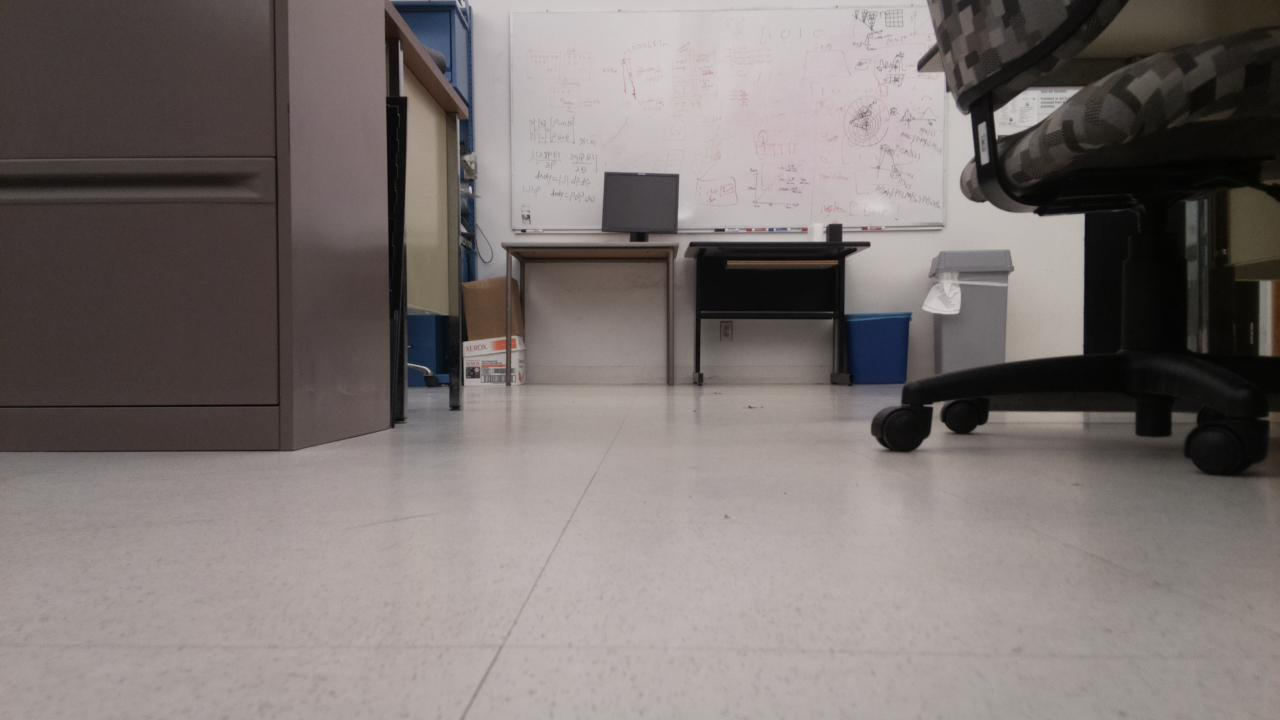tvmonitor: (603, 173, 677, 232)
